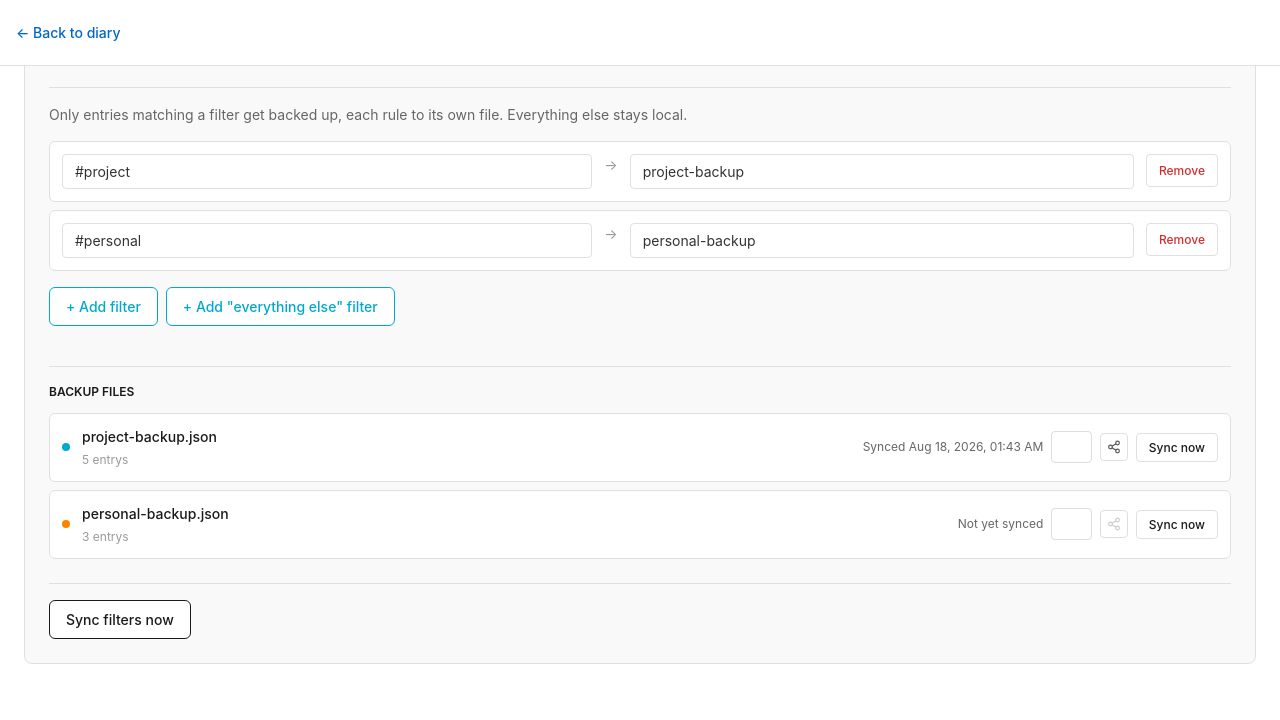
Scenario: SettingsView - Download Button › clicking outside (backdrop) closes dropdown
(page scrolled)
Click the button named "Download backup file" next to "Synced Aug 18, 2026, 01:43 AM" at (1072, 447), box [1051,431,1092,463]
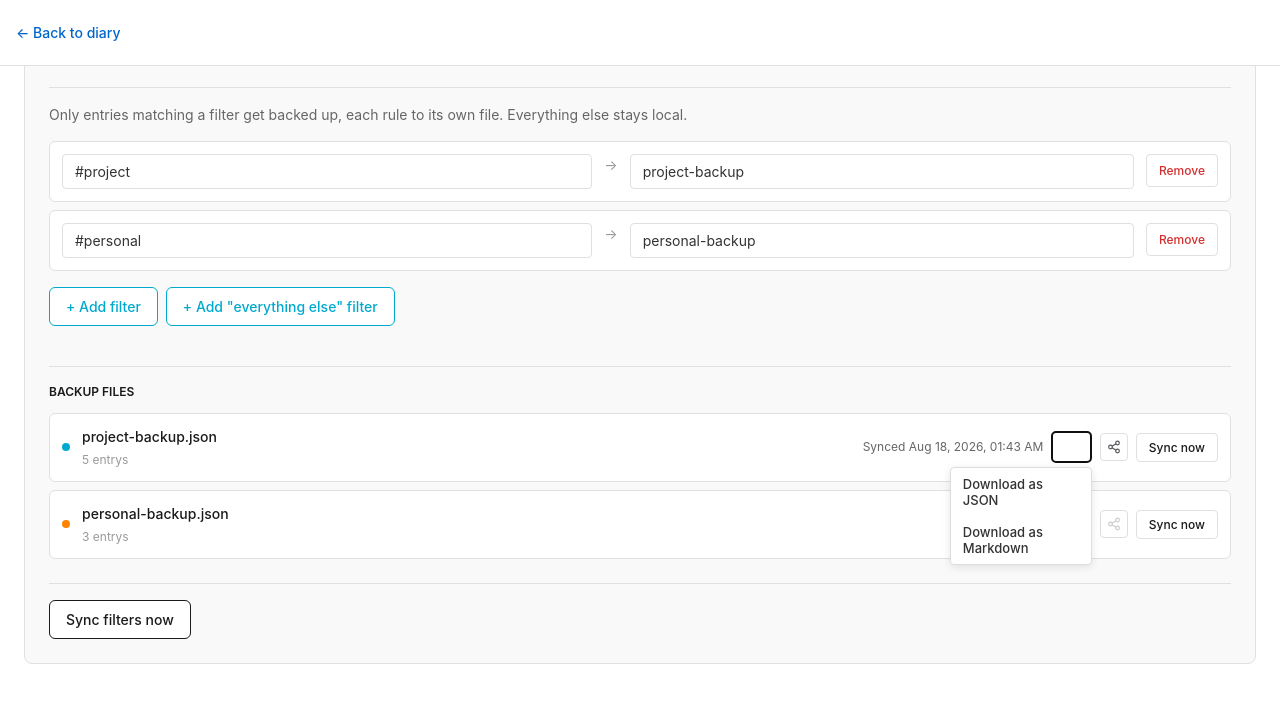
Expected: the button "Download as JSON" is shown, [951,468,1091,516]
Click the element with class "download-menu-backdrop" at (640, 360), box [0,0,1279,719]
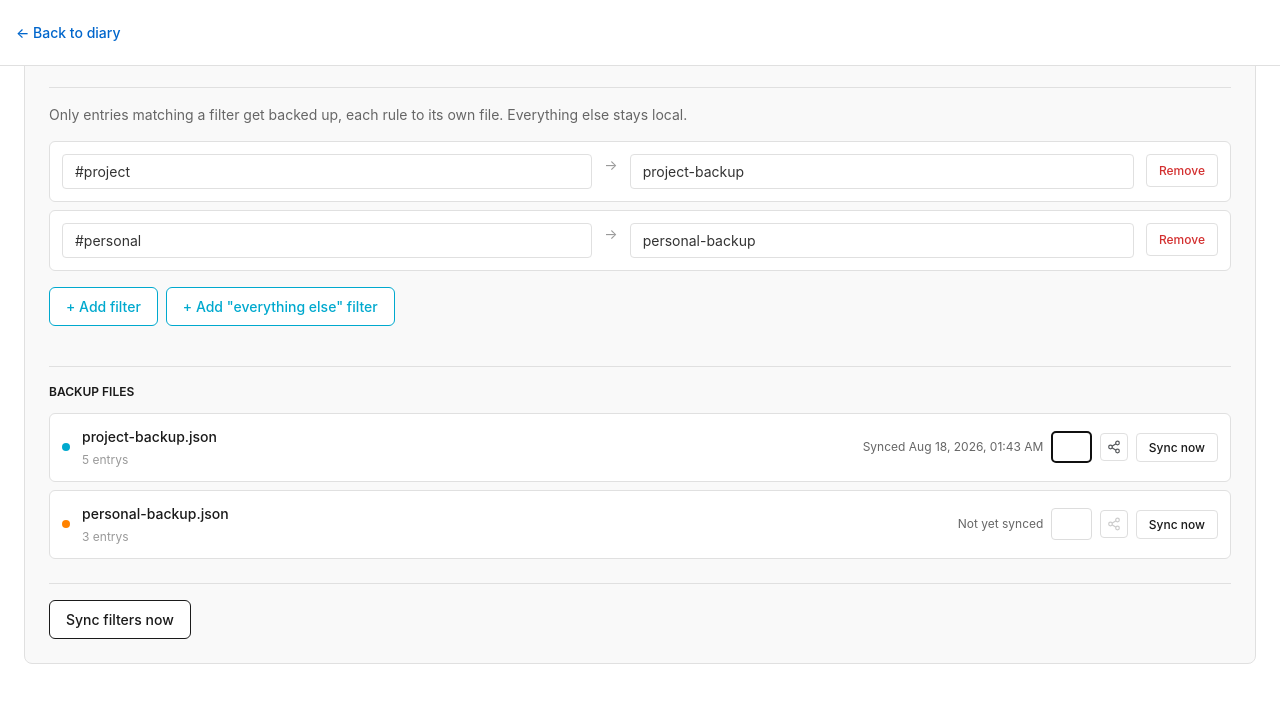
Expected: the button "Download as JSON" is gone
